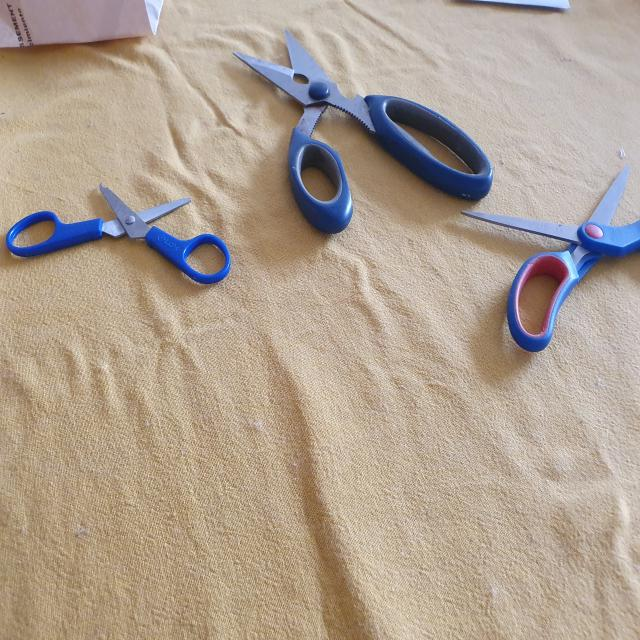scissors: (232, 26, 495, 231), (460, 166, 640, 354), (5, 176, 234, 288)
